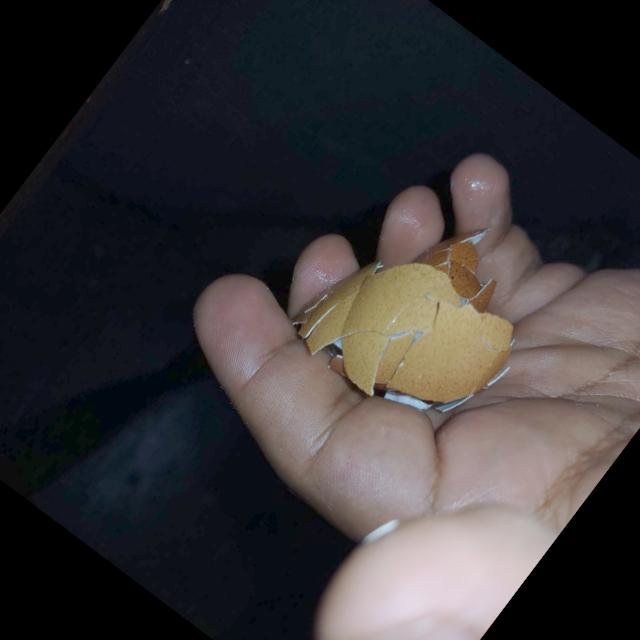organic: (282, 168, 568, 452)
